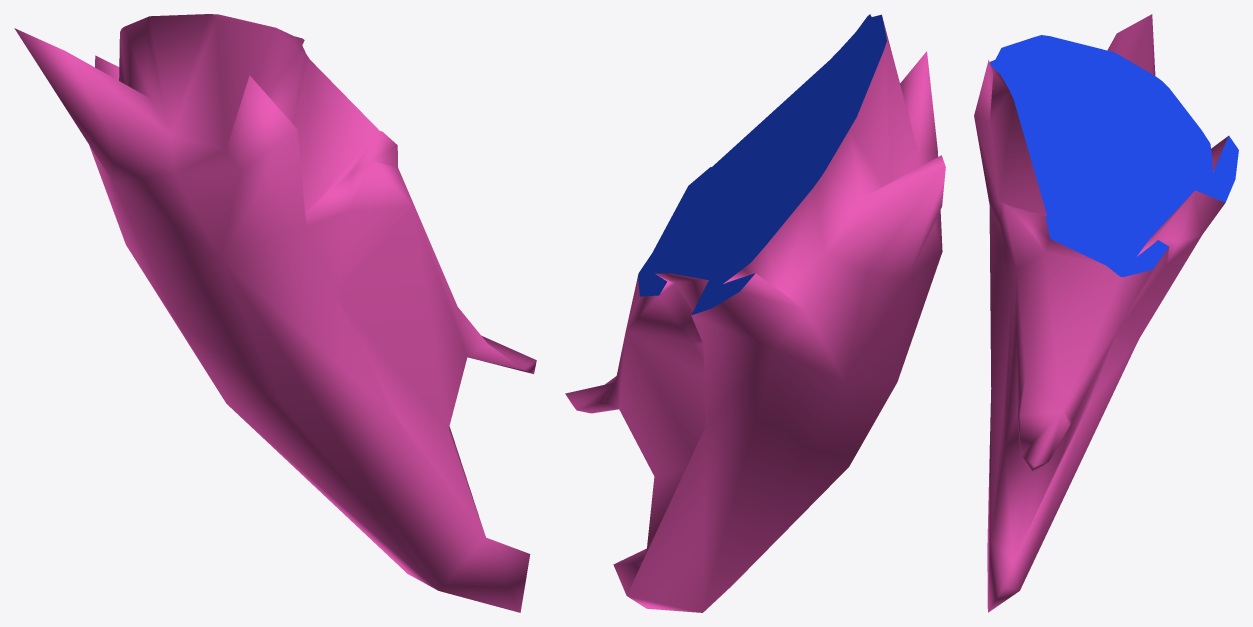
Rendered from SM_StatueJardin_Broken_04.fbx.
3 renders of one model, left to right at view 1: azimuth 30°, elevation 25°; view 2: azimuth 150°, elevation 25°; view 3: azimuth 270°, elevation 25°, orthographic. The views are drawn at different scales.
Visible parts, largest first — view 1: SM_StatueJardin_Broken_04; view 2: SM_StatueJardin_Broken_04; view 3: SM_StatueJardin_Broken_04.
Boxes of the visible parts, x1=… form: SM_StatueJardin_Broken_04: x1=14, y1=14, x2=536, y2=612; SM_StatueJardin_Broken_04: x1=565, y1=14, x2=945, y2=612; SM_StatueJardin_Broken_04: x1=974, y1=14, x2=1238, y2=612.
Bounding box in the file's own units: 2.1 × 2.88 × 1.44.
